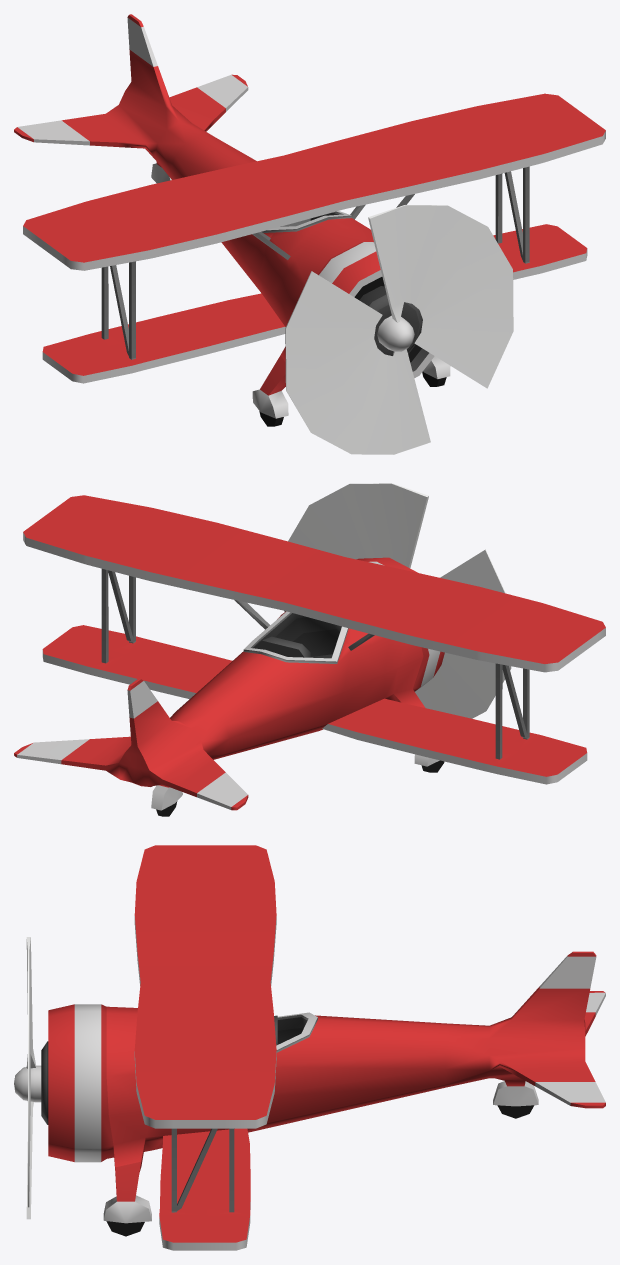
The model's file is vehicles-aircraft-biplane_v1.fbx.
The picture shows the model from 3 angles, top to bottom: view 1: azimuth 30°, elevation 25°; view 2: azimuth 150°, elevation 25°; view 3: azimuth 270°, elevation 25°; orthographic projection. The views are drawn at different scales.
Visible parts, largest first — view 1: Biplane; view 2: Biplane; view 3: Biplane.
Part boxes in pixels (x1=…): Biplane: x1=14, y1=14, x2=605, y2=454; Biplane: x1=14, y1=483, x2=605, y2=816; Biplane: x1=14, y1=845, x2=605, y2=1250.
Bounding box in the file's own units: 7 × 3.08 × 6.37.
